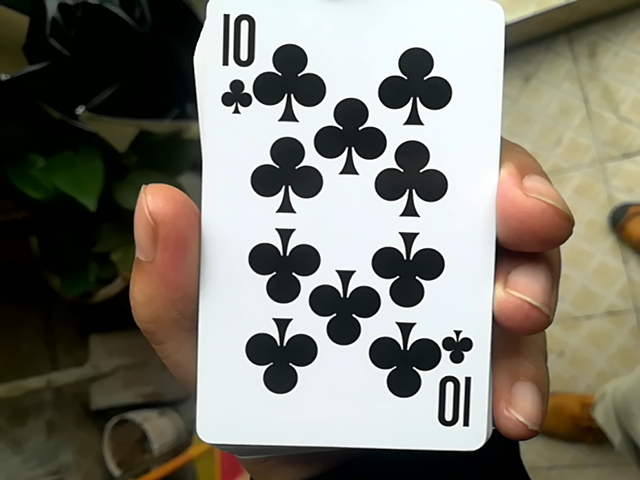mh 10: (184, 0, 494, 443)
